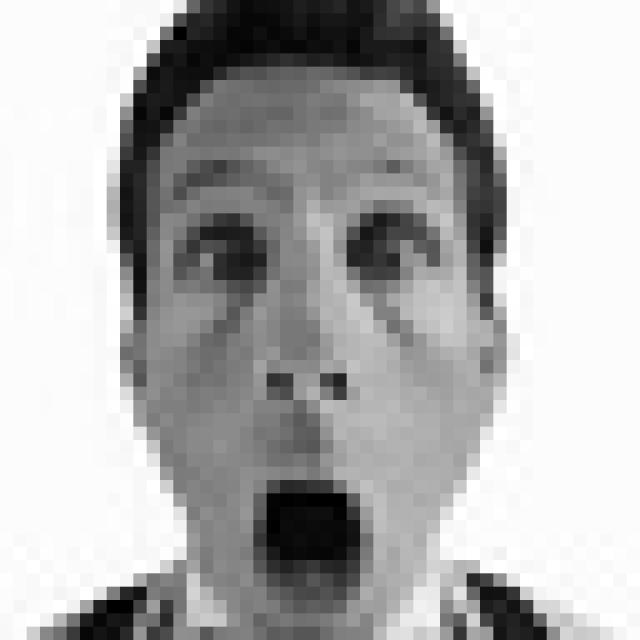surprise: (169, 143, 453, 622)
